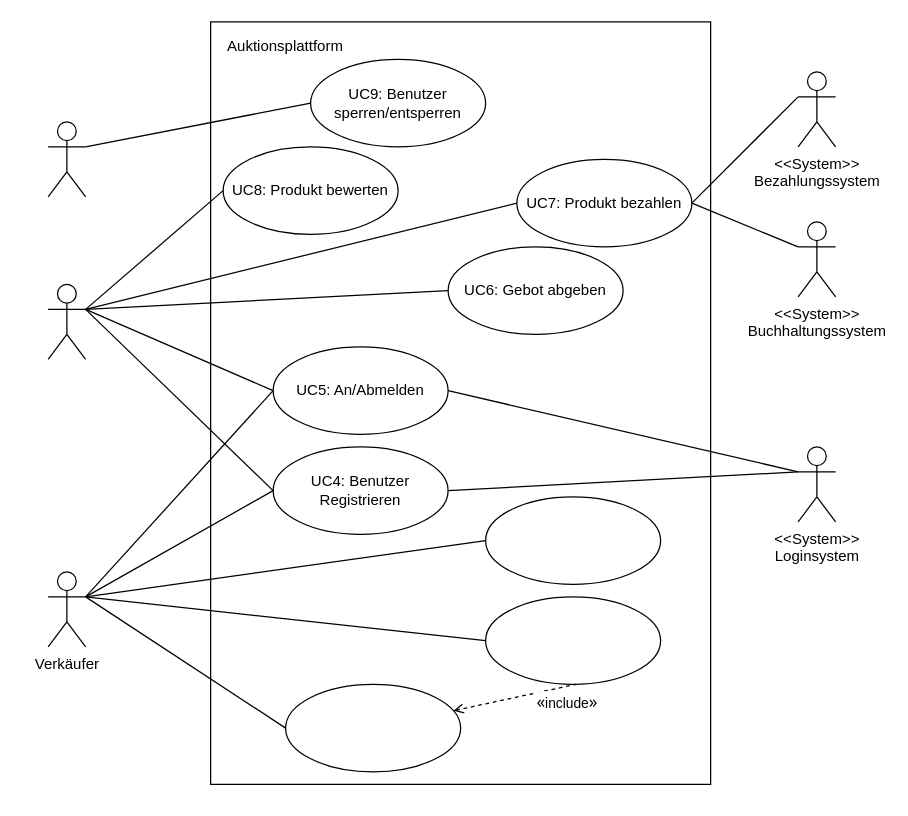
The diagram is 908 pixels wide and 816 high, and some of its shapes have lost their labels. Each missing label, with the centre of its shape:
Käufer: point (66, 321)
Systemadmin: point (66, 159)
UC1: Artikel erfassen: point (372, 727)
UC2: Auktion erstellen: point (572, 640)
UC3: Auktion bearbeiten: point (572, 540)
